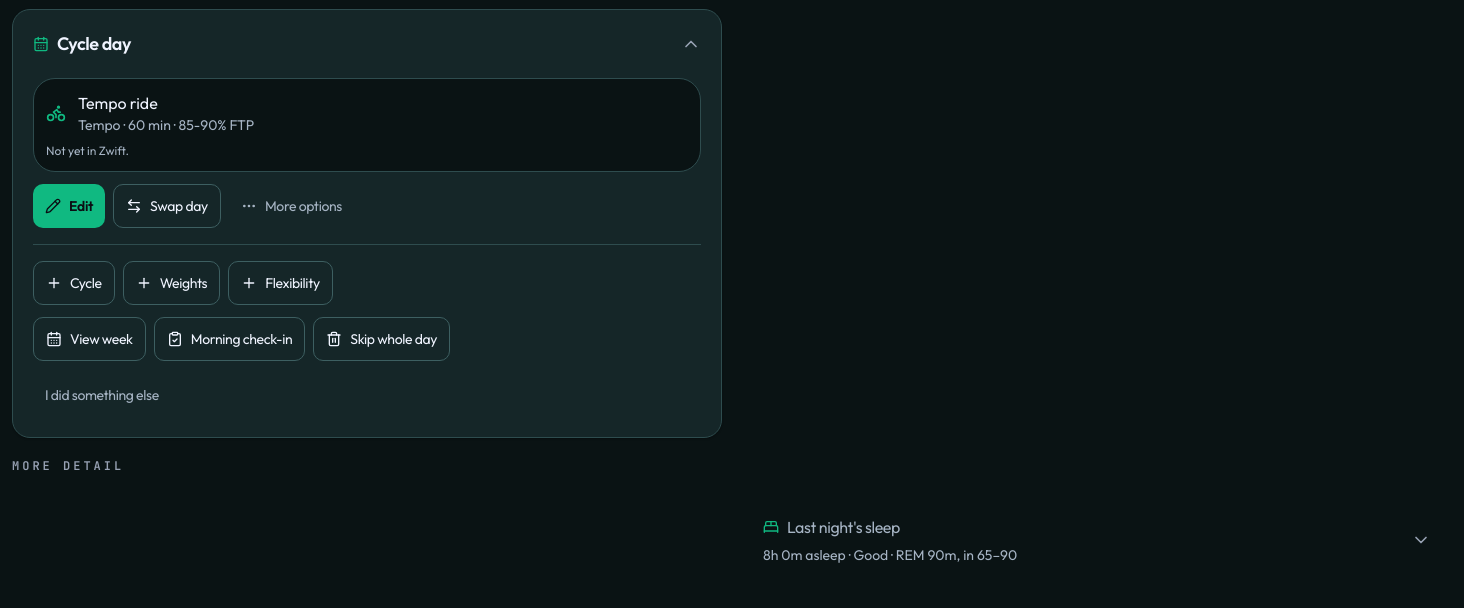
DashboardPage › hides the overnight room glance on Last night's sleep during an active holiday (Batch 121)
The image size is (1464, 608).
(page scrolled)
Expected: the text "Cycle day" is shown, x1=33 y1=32 x2=131 y2=55
Click the button "Last night's sleep 8h 0m asleep · Good · REM 90m, in 65–90".
click(843, 527)  # box x1=743 y1=495 x2=1451 y2=585
(page scrolled)
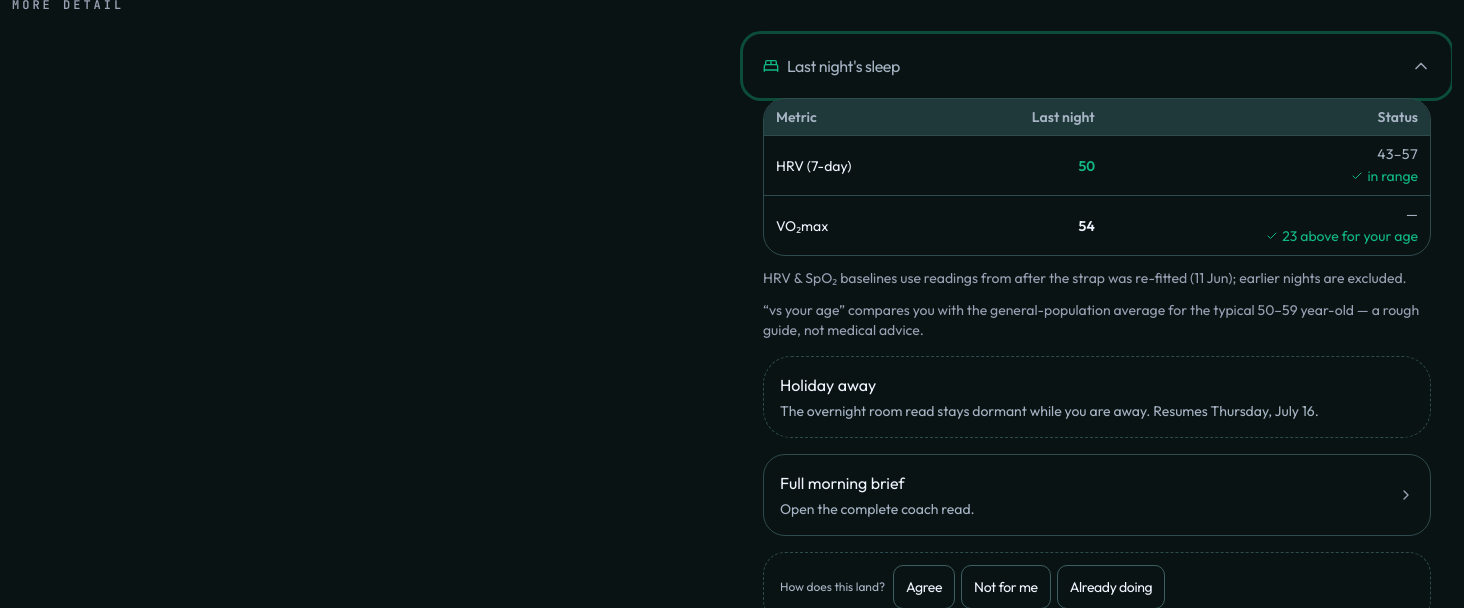
Expected: the text "Holiday away" is shown, x1=780 y1=375 x2=876 y2=395
Expected: the text "The overnight room read stays dormant" is shown, x1=780 y1=402 x2=1208 y2=420
